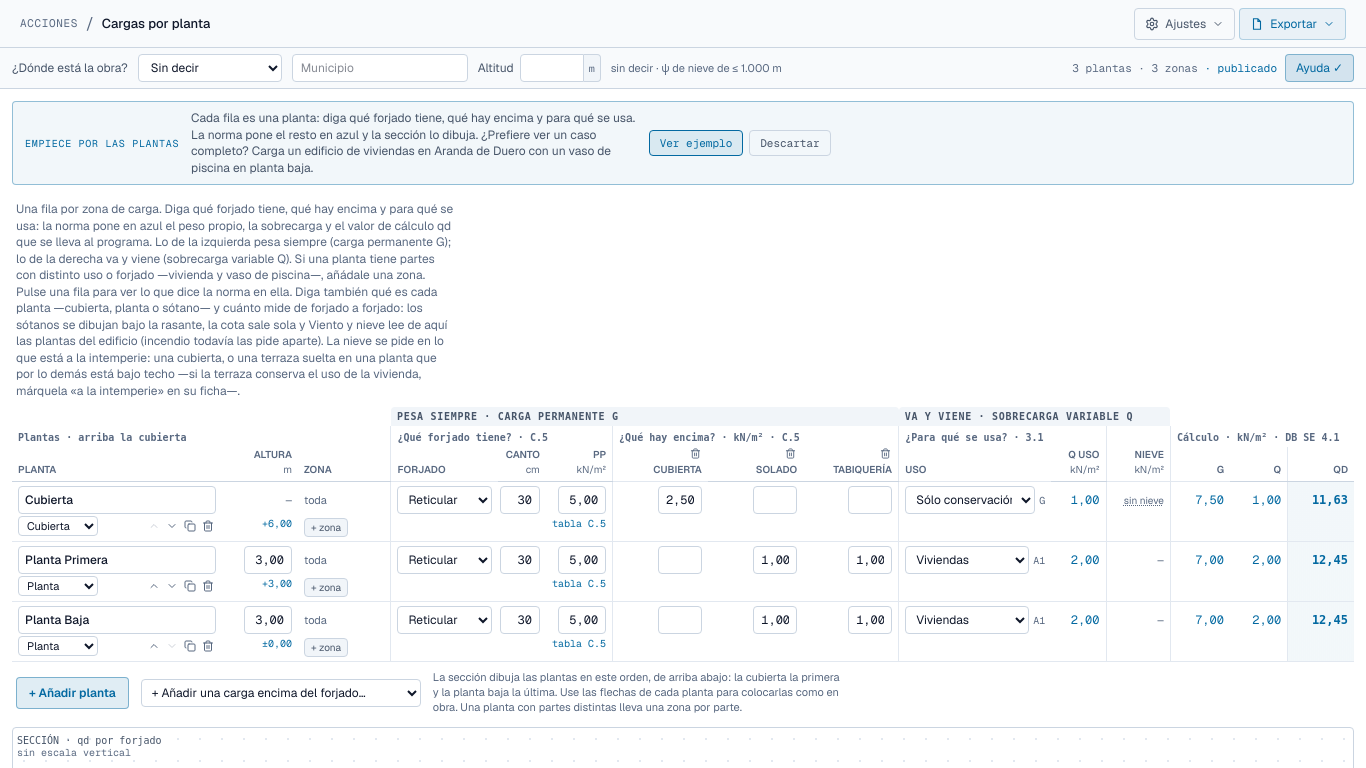
Test case: Cargas por planta — la tabla › un forjado sin peso en la norma es un error que bloquea la exportación
This screenshot has width=1366, height=768.
Select "Madera" in the dropdown named "Tipo de forjado de Planta Baja" at point(445, 620), box [398,606,492,634]
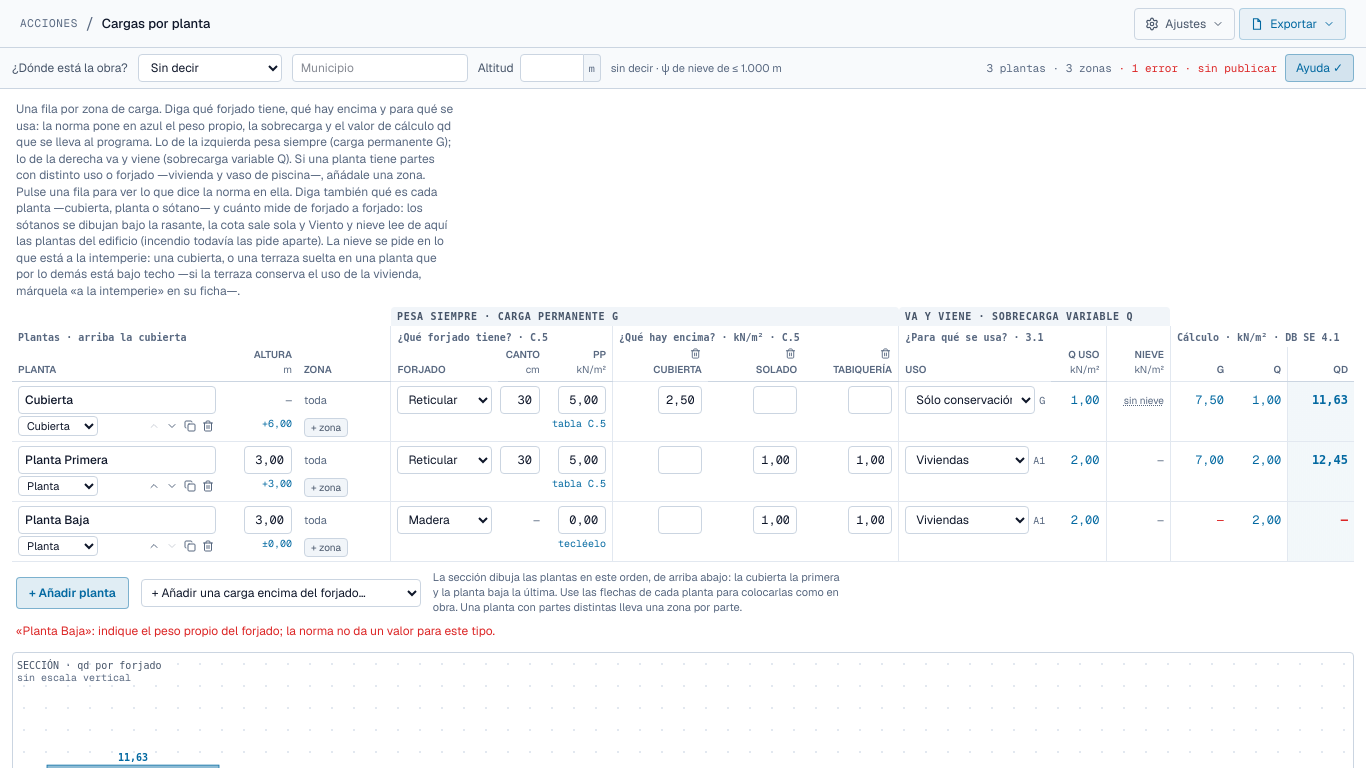
Expected: the text "«Planta Baja»: indique el peso propio del forjado" is shown, [16,623,495,639]
Expected: the text "· sin publicar" is shown, [1178,61,1277,75]
Click the button "Exportar".
click(1293, 24)  # box [1239,8,1346,40]
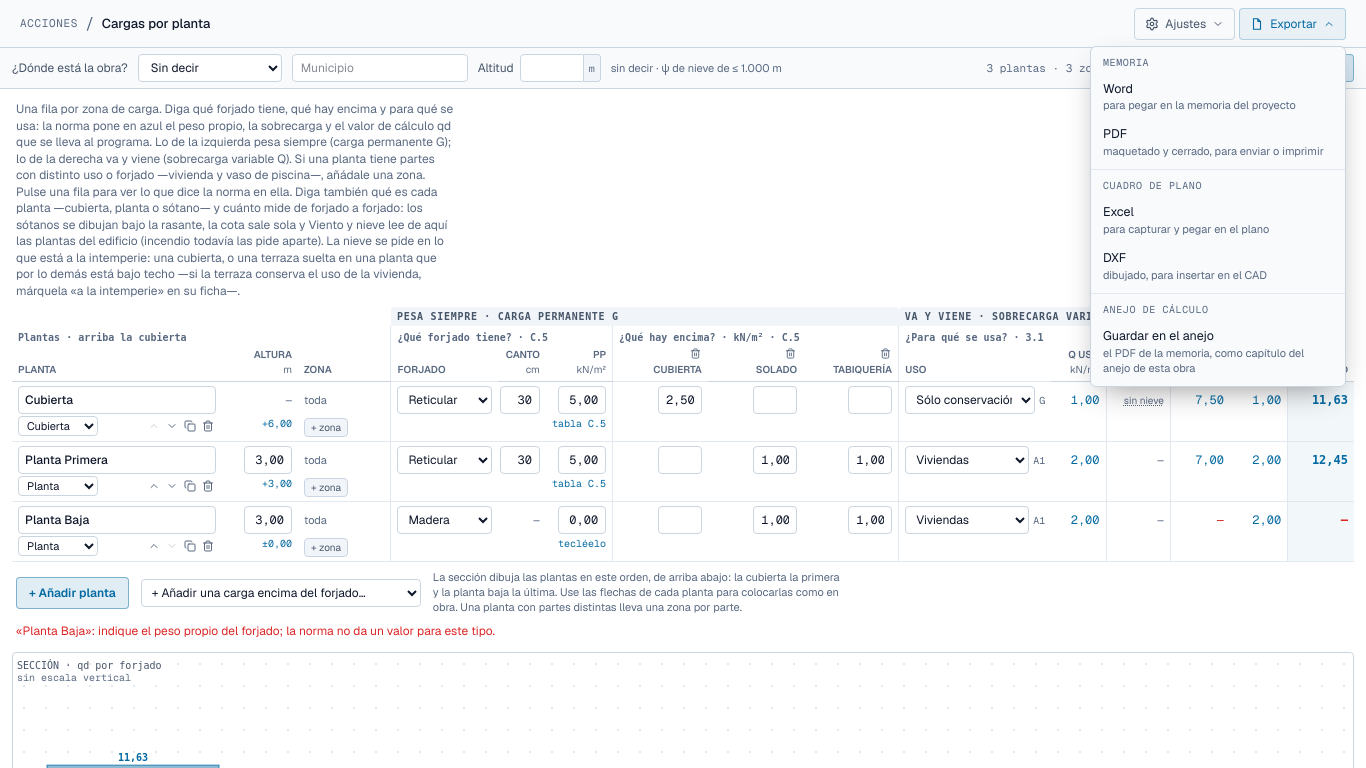
Click the menu item "Word para pegar en la memoria del proyecto".
click(1218, 96)  # box [1091,74,1345,119]
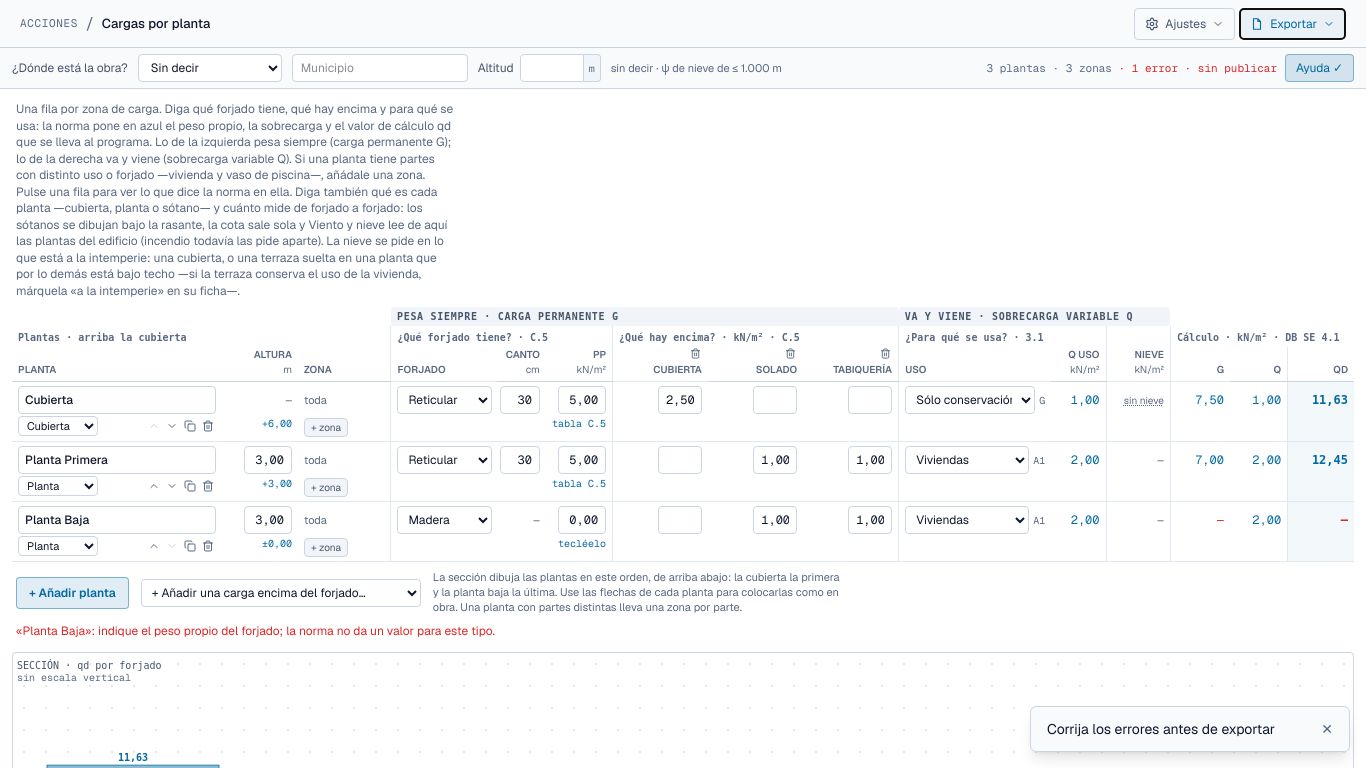
Expected: the text "Corrija los errores antes de exportar" is shown, [1047,719,1309,739]
